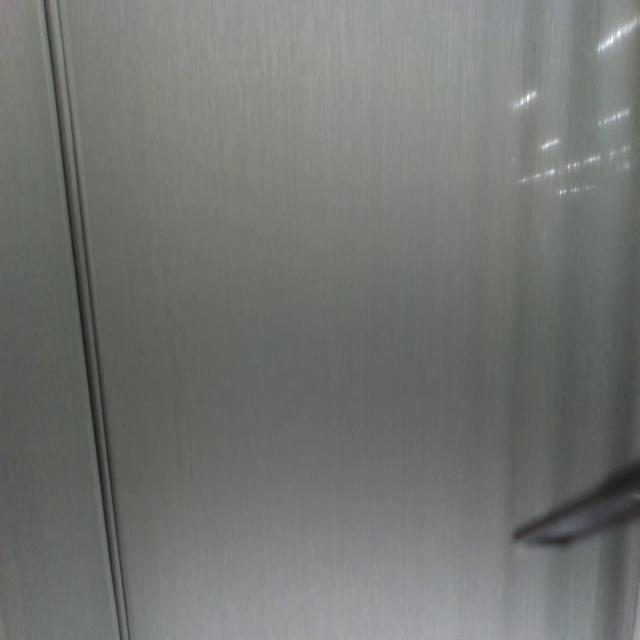crease: (38, 0, 134, 640)
